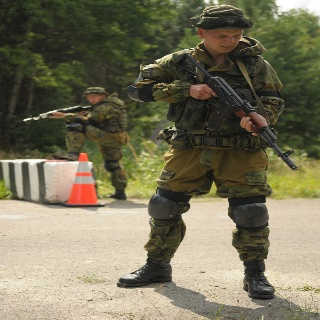rifle: (176, 51, 299, 173), (23, 104, 95, 122)
